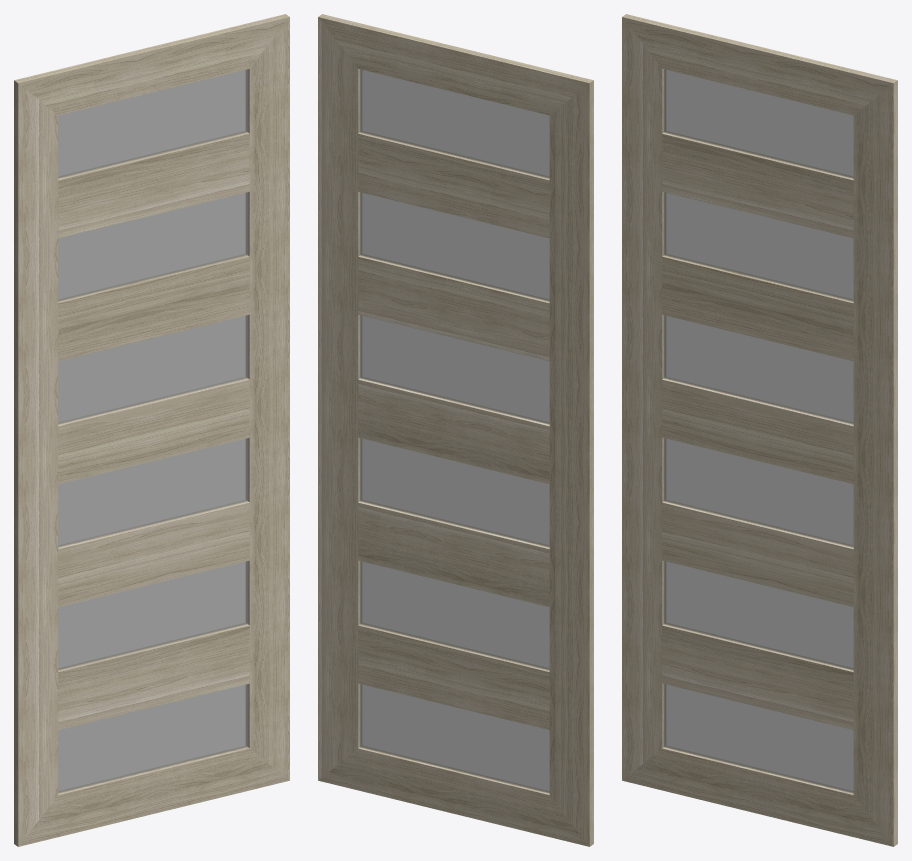
The model's file is Door_1Floor.fbx.
3 renders of one model, left to right at view 1: azimuth 30°, elevation 25°; view 2: azimuth 150°, elevation 25°; view 3: azimuth 330°, elevation 25°, orthographic.
Visible parts, largest first — view 1: Door_1Floor; view 2: Door_1Floor; view 3: Door_1Floor.
Part boxes in pixels (box(x1,y1,x2,y2)): Door_1Floor: box(14, 14, 289, 846); Door_1Floor: box(318, 14, 593, 846); Door_1Floor: box(622, 14, 897, 846).
Size of the model in its own units: 0.75 by 2.01 by 0.0197.
